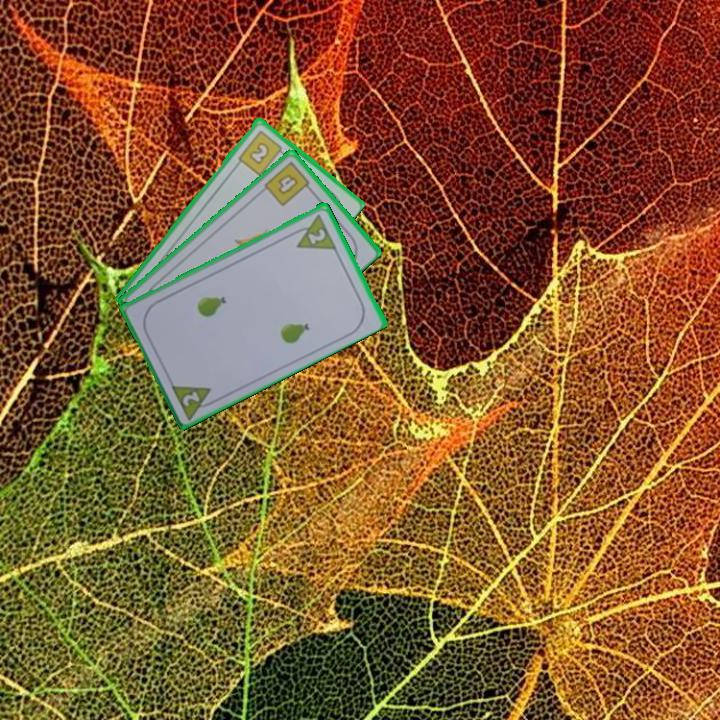2b: (234, 126, 289, 178)
2p: (167, 380, 221, 421), (305, 224, 329, 247)
4b: (260, 158, 315, 209)
